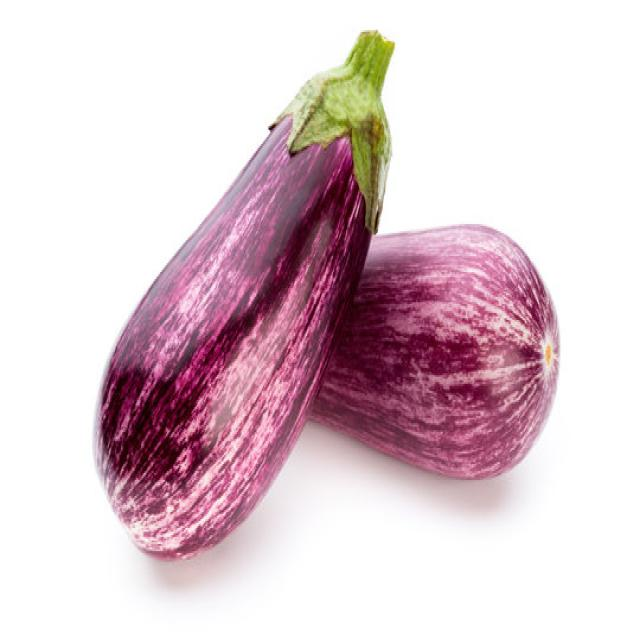Eggplant: (91, 27, 395, 560), (304, 220, 560, 480)
